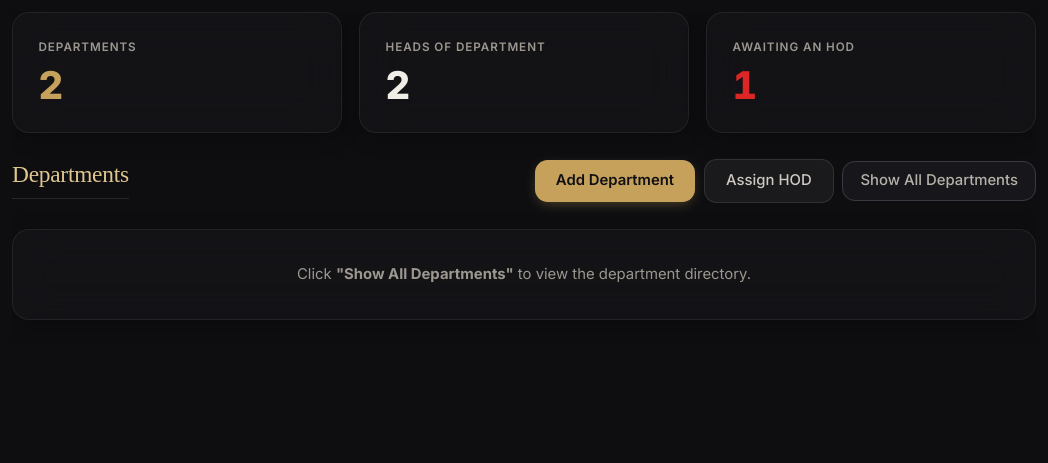
Test case: Departments tab — row-wise layout › lays departments out one per row, not in a multi-column grid
Expected: the heading "Departments" is shown, [12, 160, 129, 199]
What coordinates should you click on to do the following:
click the button "Show All Departments"
I would click on:
 (939, 181)
Its box is [842, 161, 1036, 201].
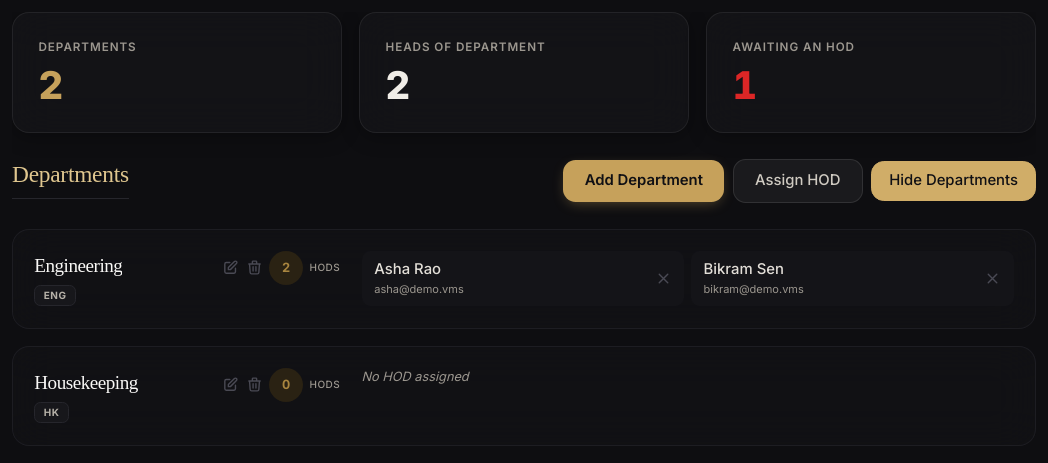
Expected: the element with test id "department-rows" is shown, [12, 228, 1036, 446]
Expected: the heading "Engineering" is shown, [34, 251, 122, 281]
